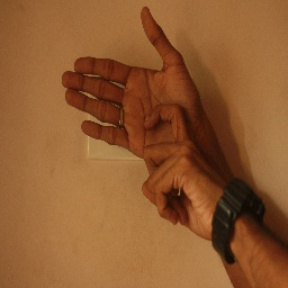R: (66, 6, 205, 219)
